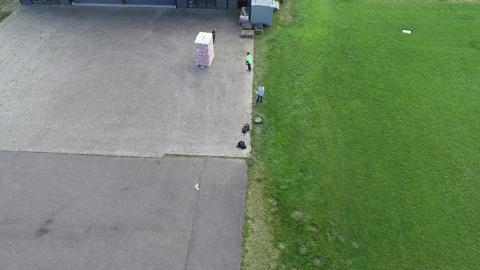RockwoolPallet: (194, 32, 216, 70)
